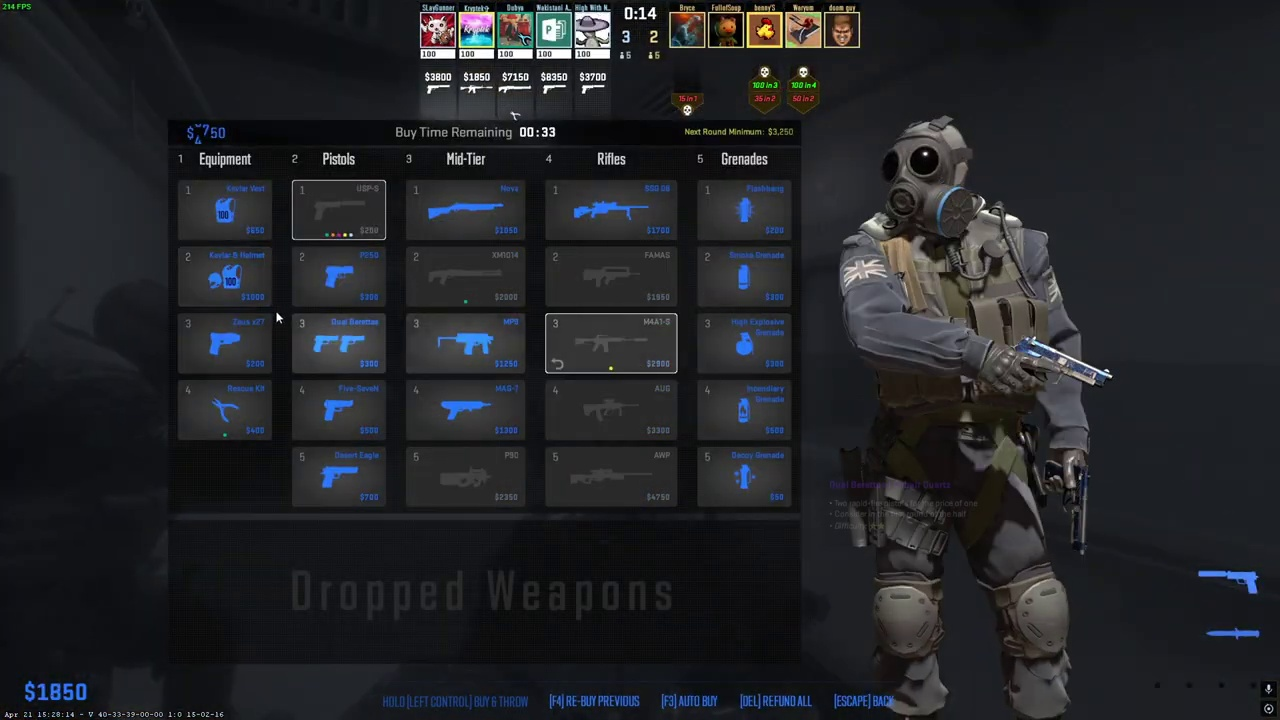CT: (853, 121, 1080, 720)
